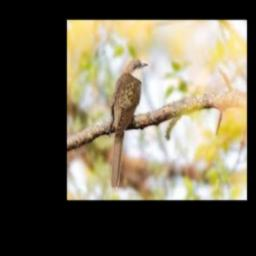Cuckoo: (110, 59, 149, 191)
